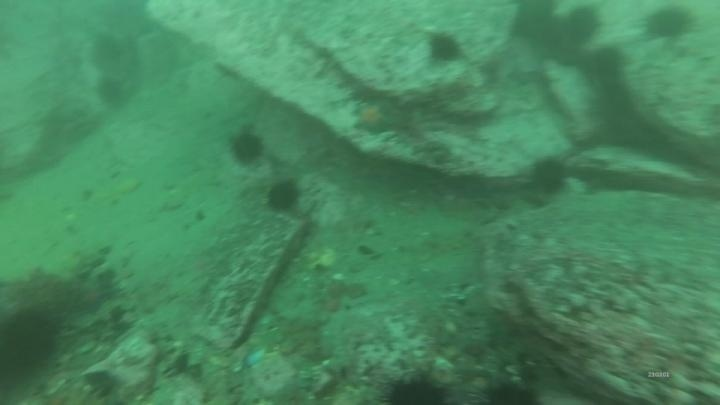echinus: (0, 304, 65, 388), (509, 1, 565, 51), (378, 369, 457, 404), (641, 4, 697, 44), (590, 81, 635, 128), (560, 4, 605, 48), (528, 155, 570, 197), (477, 378, 542, 404), (227, 127, 267, 168), (587, 44, 627, 85), (264, 177, 302, 215), (89, 32, 126, 71), (425, 30, 464, 66), (94, 74, 129, 110)
starfish: (349, 99, 397, 137), (73, 278, 114, 316)
